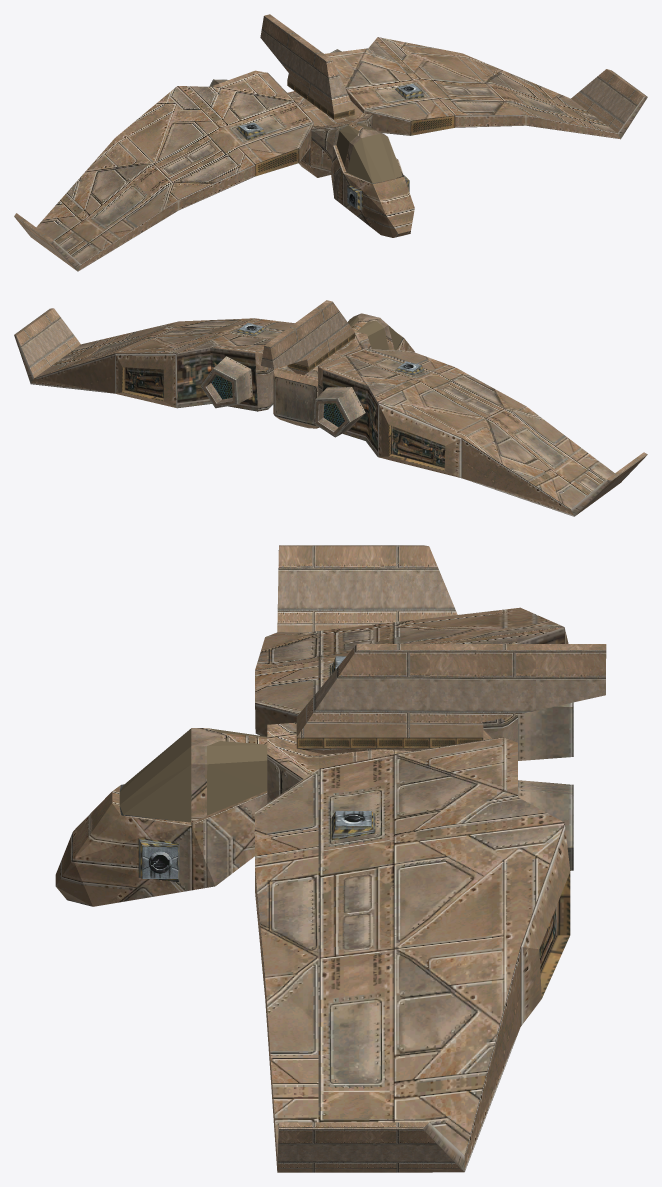
Rendered from mesh_legionnaire.fbx.
3 renders of one model, top to bottom at view 1: azimuth 30°, elevation 25°; view 2: azimuth 150°, elevation 25°; view 3: azimuth 270°, elevation 25°, orthographic. The views are drawn at different scales.
Parts seen in each view (by area): view 1: wing_starboard, wing_port, pi_fighter, glass; view 2: wing_starboard, wing_port, pi_fighter, engine_starboard, engine_port, BayDoor, glass; view 3: wing_port, pi_fighter, wing_starboard, glass, engine_starboard, engine_port.
Boxes of the visible parts, x1,y1,x2,y2 form: wing_starboard: (14, 70, 313, 271); wing_port: (325, 37, 647, 139); pi_fighter: (260, 14, 414, 237); glass: (336, 123, 402, 183); wing_starboard: (318, 348, 647, 516); wing_port: (14, 308, 294, 411); pi_fighter: (261, 300, 414, 428); engine_starboard: (313, 387, 365, 437); engine_port: (201, 356, 252, 408); BayDoor: (274, 376, 316, 426); glass: (348, 316, 402, 350); wing_port: (255, 737, 570, 1172); pi_fighter: (55, 644, 606, 906); wing_starboard: (255, 545, 568, 742); glass: (119, 728, 267, 822); engine_starboard: (518, 702, 573, 760); engine_port: (518, 780, 573, 870).
Bounding box in the file's own units: 19.94 × 4.15 × 7.95.
9 materials, 8 textured.
